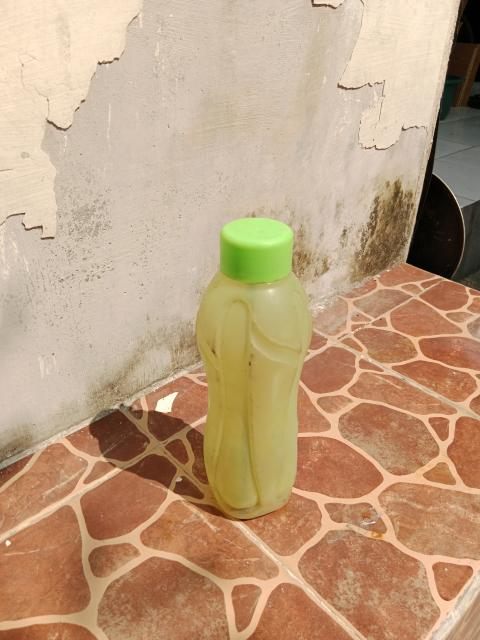botol: (179, 207, 334, 540)
